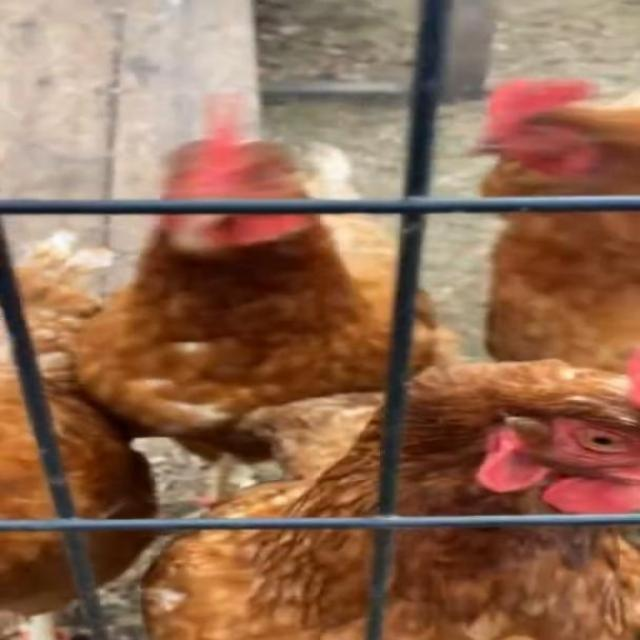Chicken: (65, 91, 449, 506), (136, 359, 640, 640), (0, 230, 165, 640), (465, 76, 640, 363)
